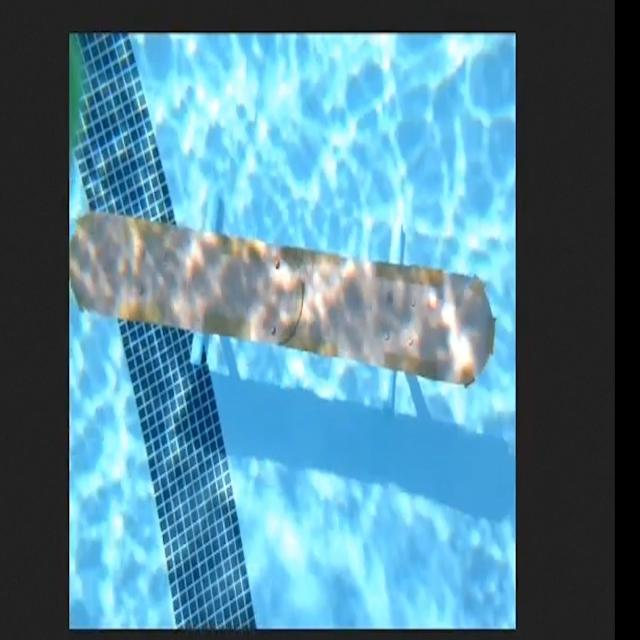Path: (73, 208, 493, 381)
